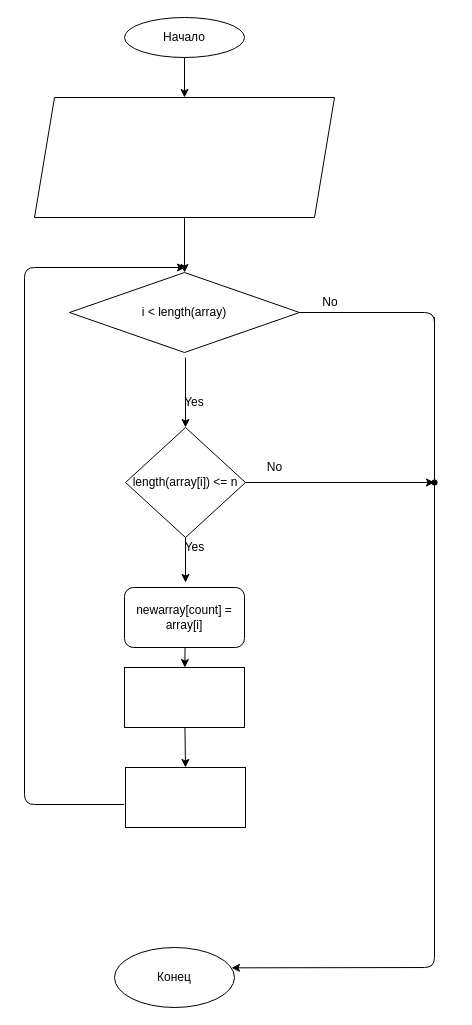
This 472x1025 diagram has some shape labels left out. Each missing label, with the box of its shape:
array = new array(), int n, int i = 0, count = 0 length(array) res = newarray(): (34, 96, 334, 218)
count = count + 1: (124, 666, 244, 728)
i = i + 1: (124, 766, 246, 828)
